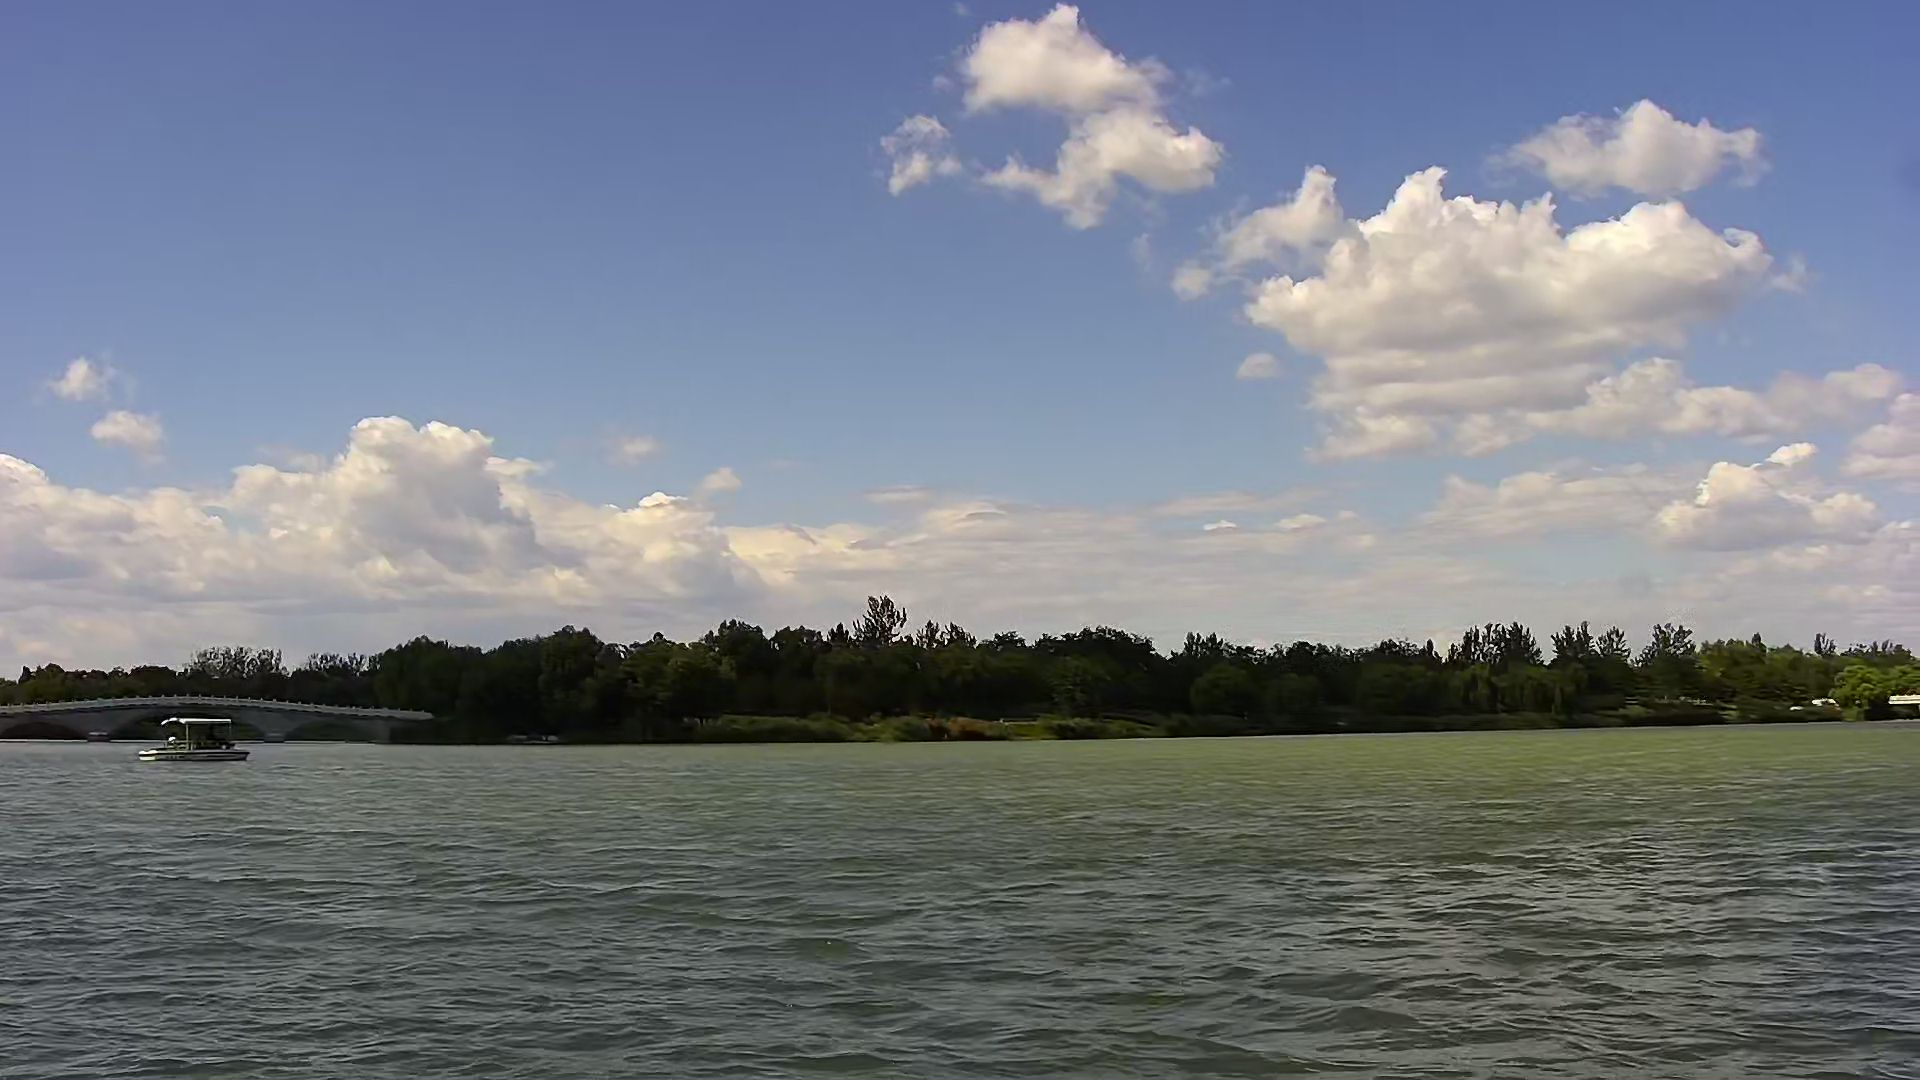boat: (138, 717, 251, 771)
bridge: (3, 690, 429, 748)
